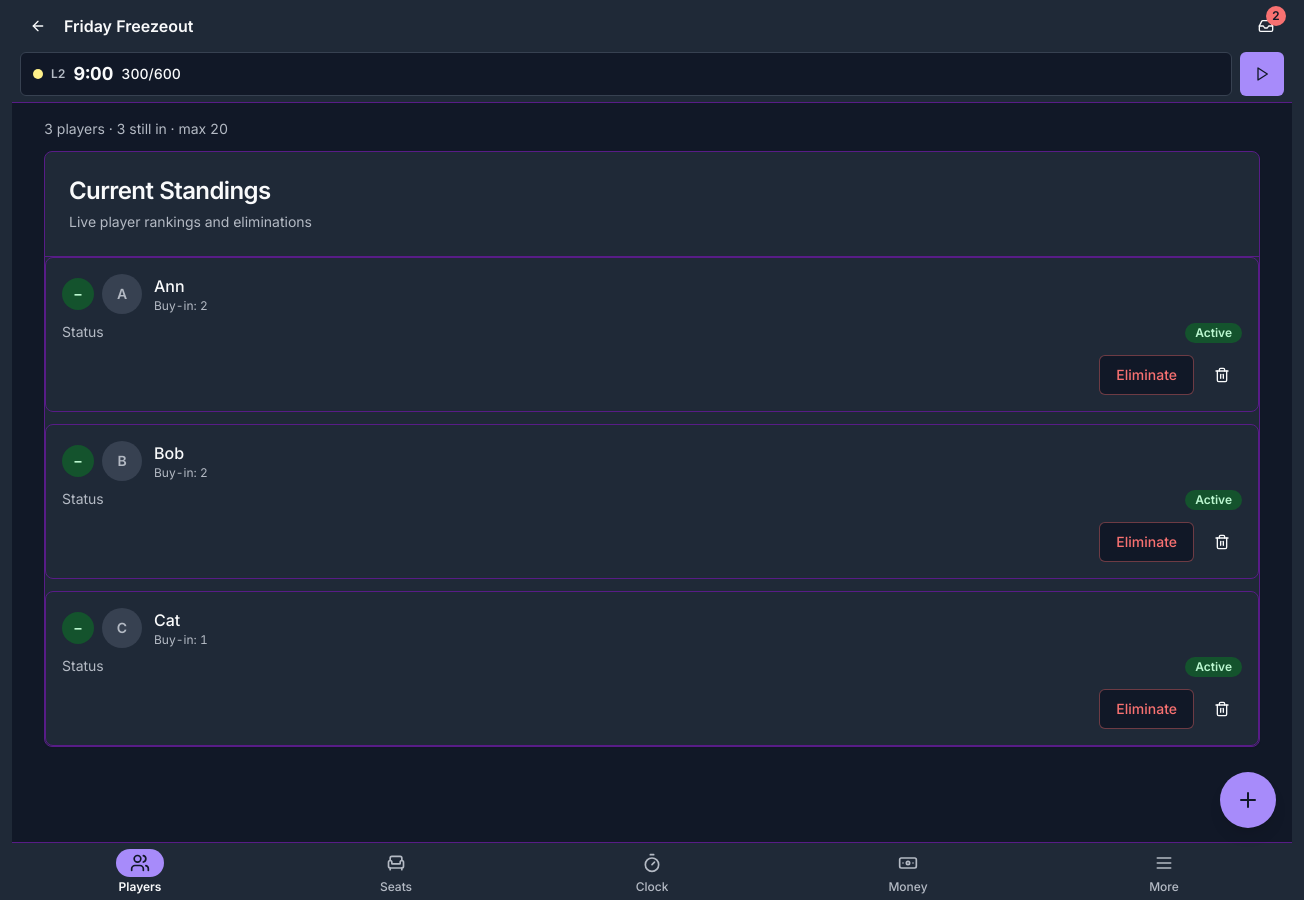
Test case: TournamentDetailsPage on a phone: the header › keeps the name, the live clock with its Resume and the waiting requests in a sticky header
The width and height of the screenshot is (1304, 900).
Expected: the heading "Friday Freezeout" is shown, [64,16,193,36]
Expected: the button named "2 player requests waiting" reads "2", [1244,4,1288,48]
Click the button named "Resume the clock" at (1262, 74), box [1240,52,1284,96]
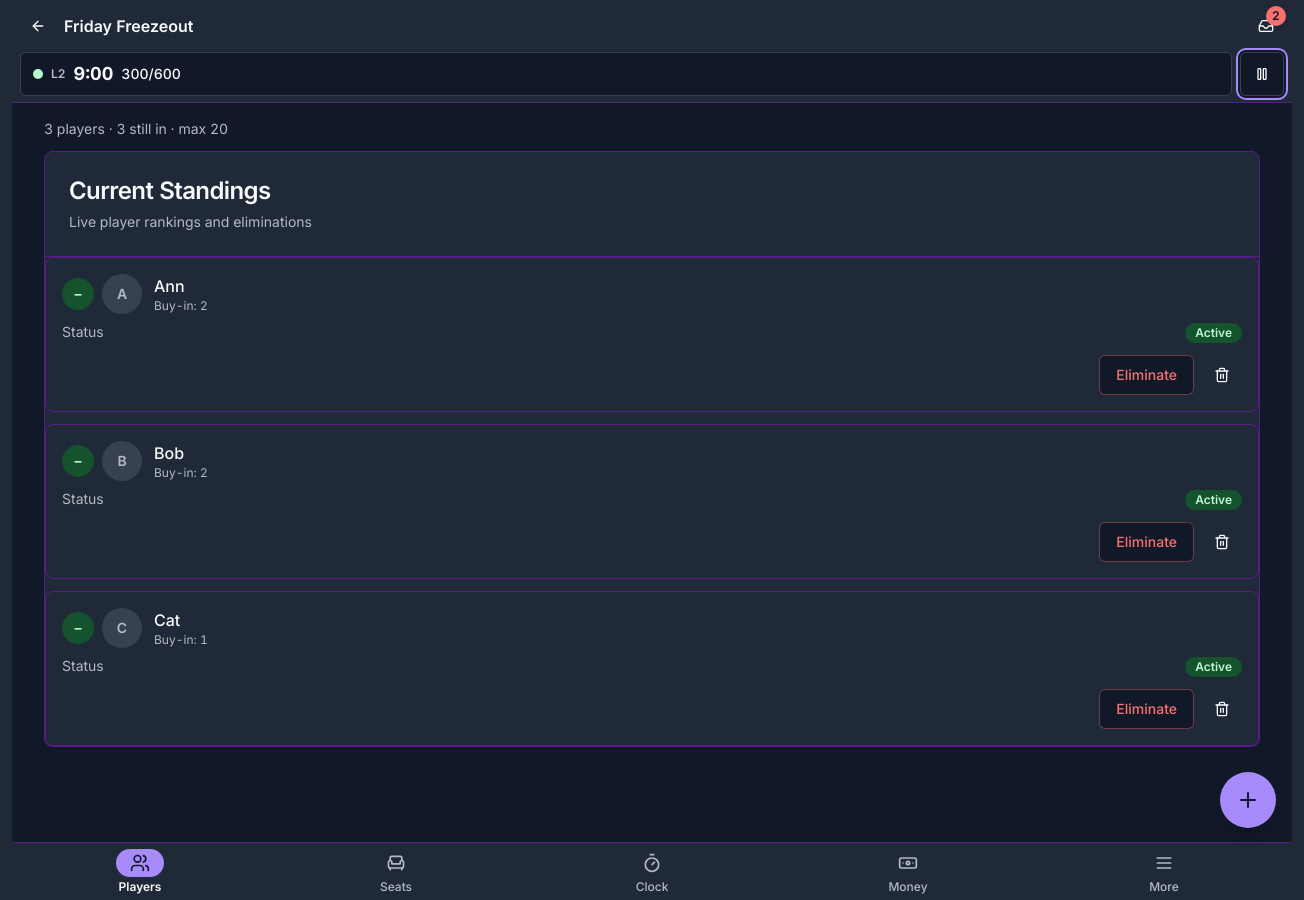
Expected: the button named "Pause the clock" is shown, [1240,52,1284,96]
